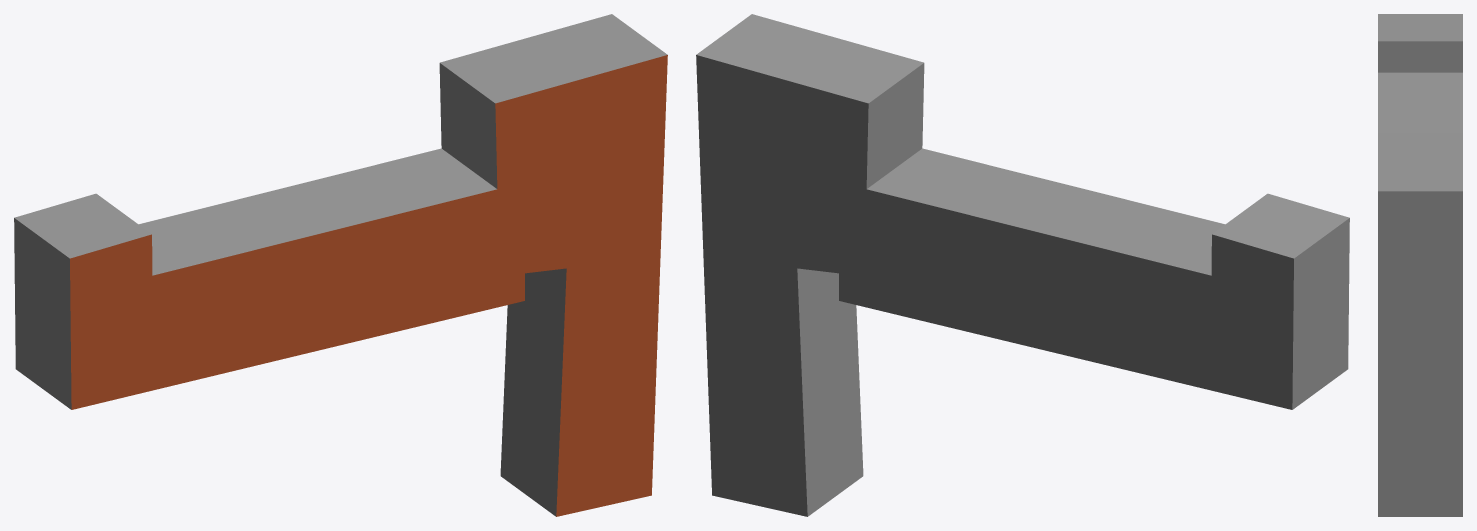
Rendered from construction_4672_assumed_A_Casa_h6m.obj.
3 renders of one model, left to right at view 1: azimuth 30°, elevation 25°; view 2: azimuth 150°, elevation 25°; view 3: azimuth 270°, elevation 25°, orthographic. The views are drawn at different scales.
Visible parts, largest first — view 1: construction_4672_assumed_A_Casa; view 2: construction_4672_assumed_A_Casa; view 3: construction_4672_assumed_A_Casa.
Part boxes in pixels (x1,y1,x2,y2): construction_4672_assumed_A_Casa: (14,14,667,516); construction_4672_assumed_A_Casa: (696,14,1349,516); construction_4672_assumed_A_Casa: (1378,14,1462,516).
Size of the model in its own units: 37.11 by 25.9 by 6.
